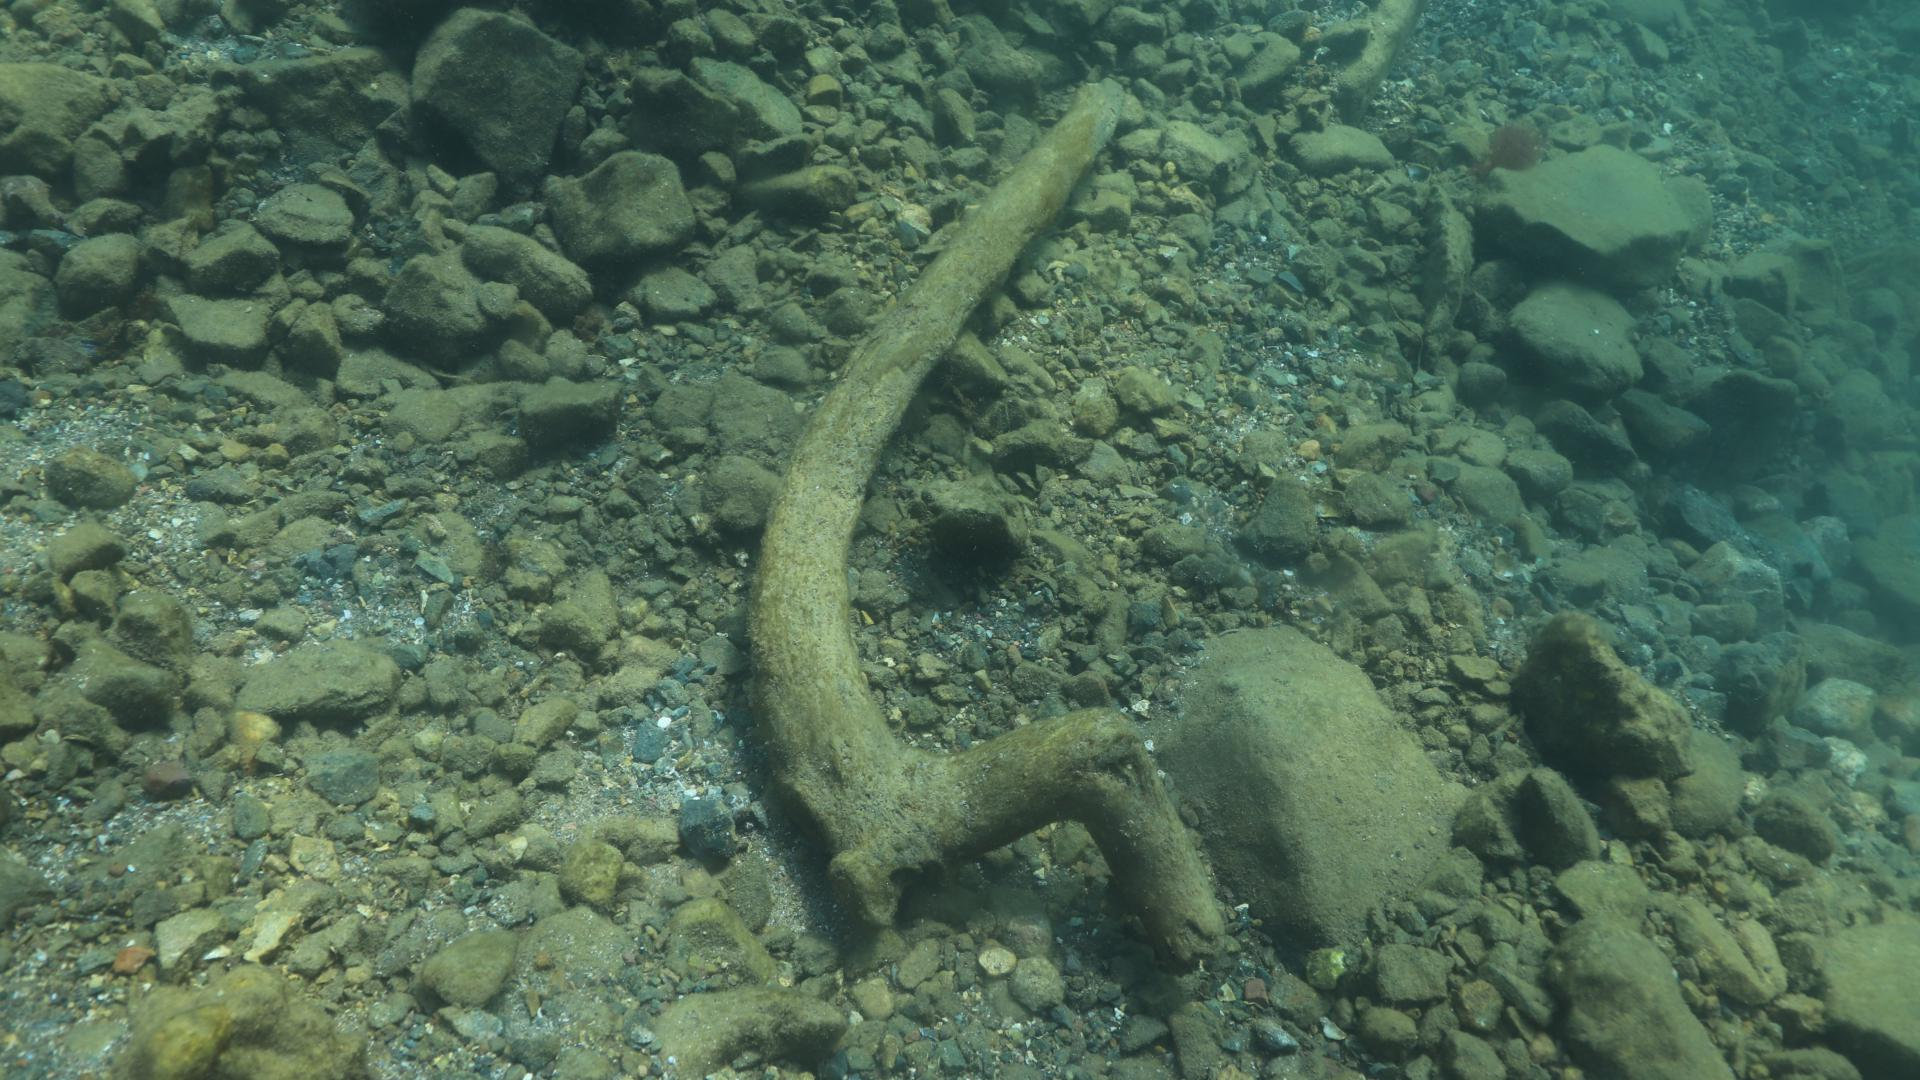wood: (742, 74, 1224, 976)
